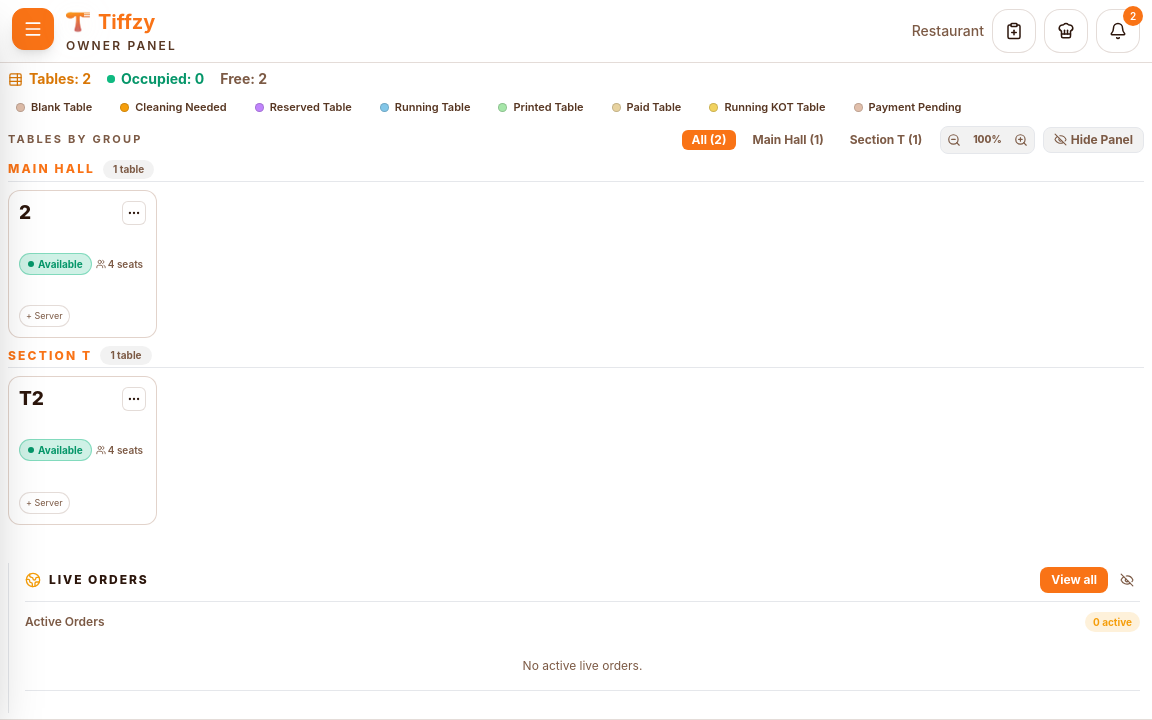
Test case: Owner Tables QA — 10 REGRESSION SCENARIOS TEST SUITE › TEST 2: Assign Server A to Table 2 -> Table 2 = Server A, T2 = unchanged
This screenshot has width=1152, height=720.
Click the 1st button titled "Assign server for Table 2" at (44, 316), box [19,305,70,327]
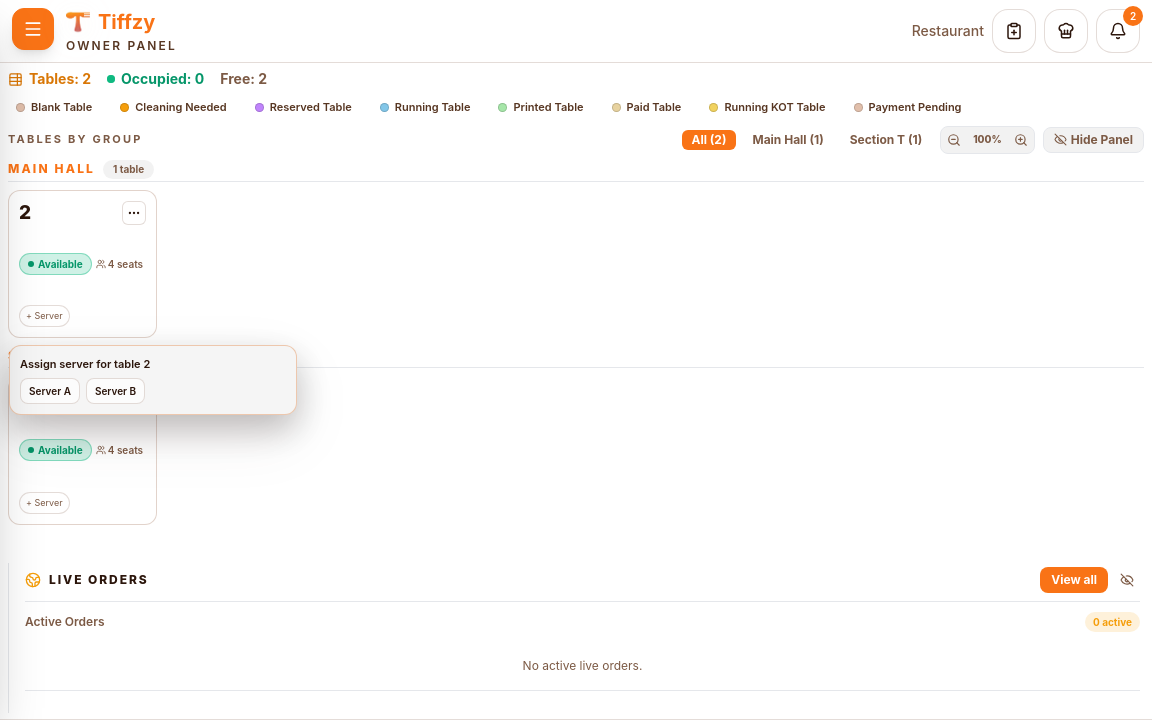
Check: the button "Server A" is shown
Click the button "Server A" at (50, 391), box [20,378,80,404]
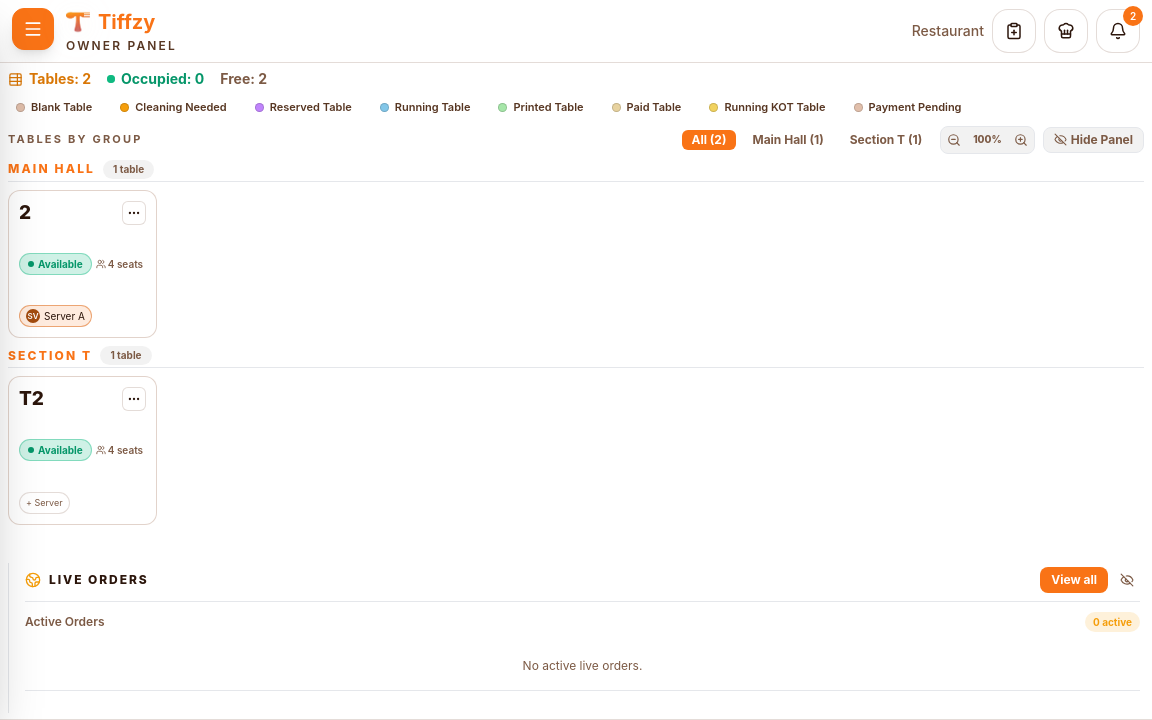
Check: the button titled "Assign server for Table T2" is shown, box [19,492,70,514]
Check: the button titled "Assigned: Server A - Server" is shown, box [19,305,92,327]
